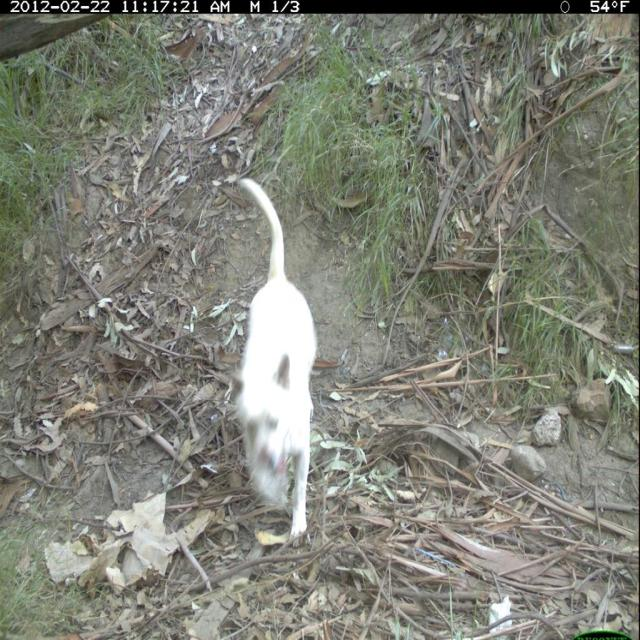dog: (230, 170, 325, 552)
